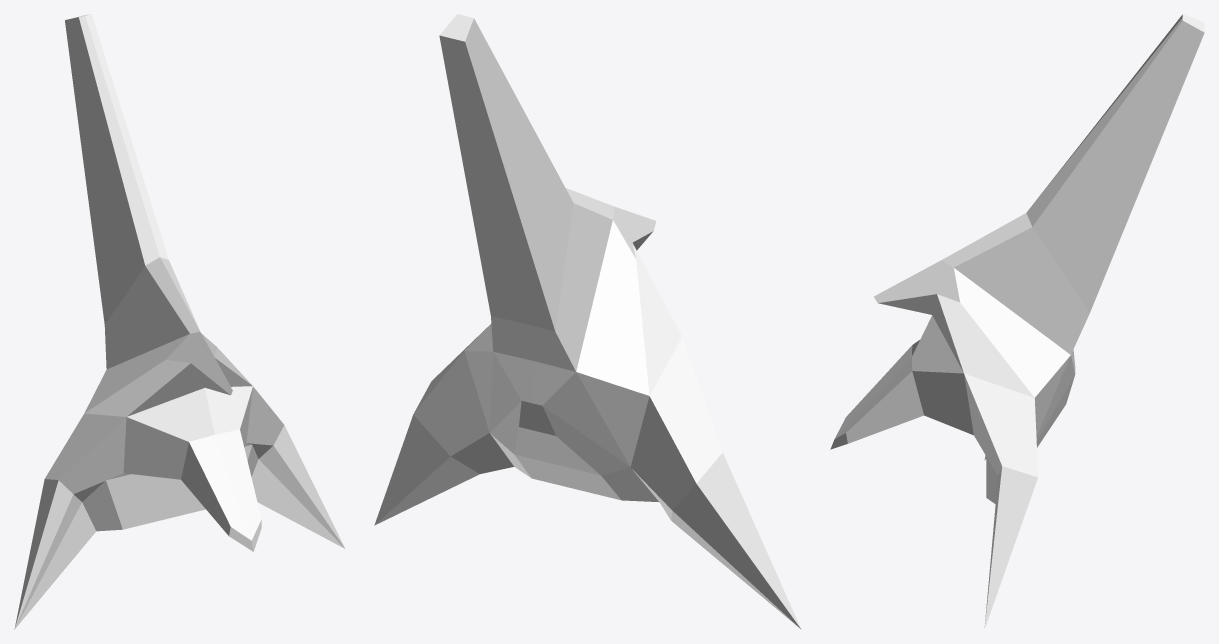
File: head_20.fbx
3 renders of one model, left to right at view 1: azimuth 30°, elevation 25°; view 2: azimuth 150°, elevation 25°; view 3: azimuth 270°, elevation 25°, orthographic. The views are drawn at different scales.
Visible parts, largest first — view 1: Cube.140; view 2: Cube.140; view 3: Cube.140.
Part boxes in pixels (x1=…): Cube.140: x1=14, y1=14, x2=345, y2=629; Cube.140: x1=374, y1=14, x2=801, y2=629; Cube.140: x1=830, y1=14, x2=1204, y2=628.
Bounding box in the file's own units: 67.18 × 97.83 × 62.86.
